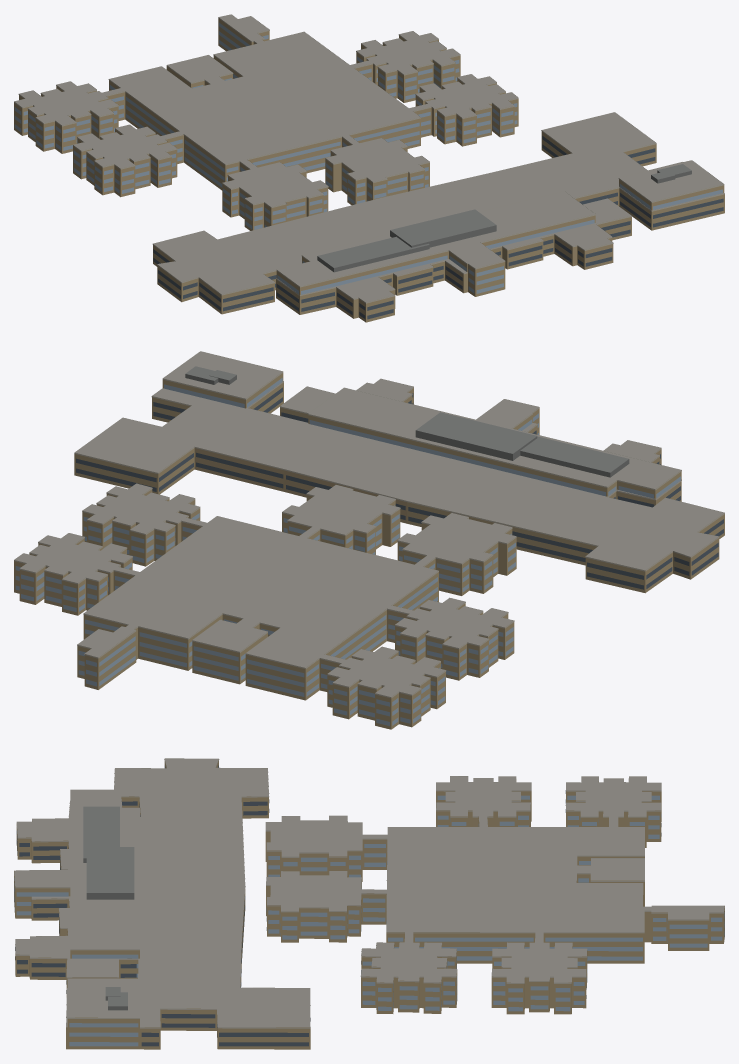
Rendered from arkansas-state-hospital-1960s.glb.
3 renders of one model, top to bottom at view 1: azimuth 30°, elevation 25°; view 2: azimuth 150°, elevation 25°; view 3: azimuth 270°, elevation 25°, orthographic. The views are drawn at different scales.
Visible parts, largest first — view 1: arkansas_state_hospital_1960s; view 2: arkansas_state_hospital_1960s; view 3: arkansas_state_hospital_1960s.
Part boxes in pixels (x1,y1,x2,y2): arkansas_state_hospital_1960s: [14, 14, 724, 322]; arkansas_state_hospital_1960s: [14, 351, 724, 729]; arkansas_state_hospital_1960s: [14, 758, 724, 1049].
Size of the model in its own units: 238 by 15.82 by 266.
